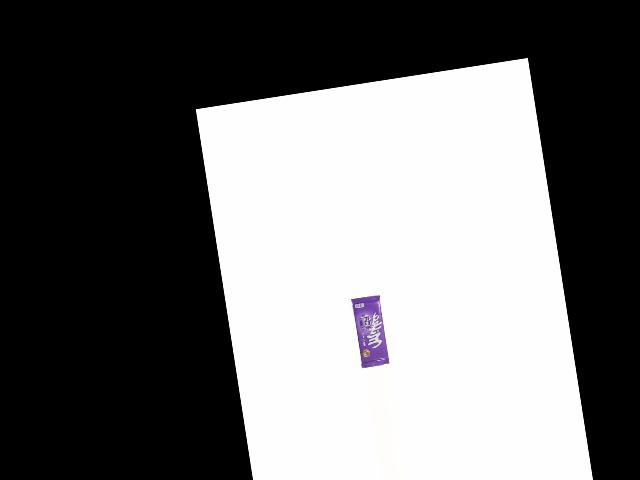chocolate: (347, 290, 391, 369)
